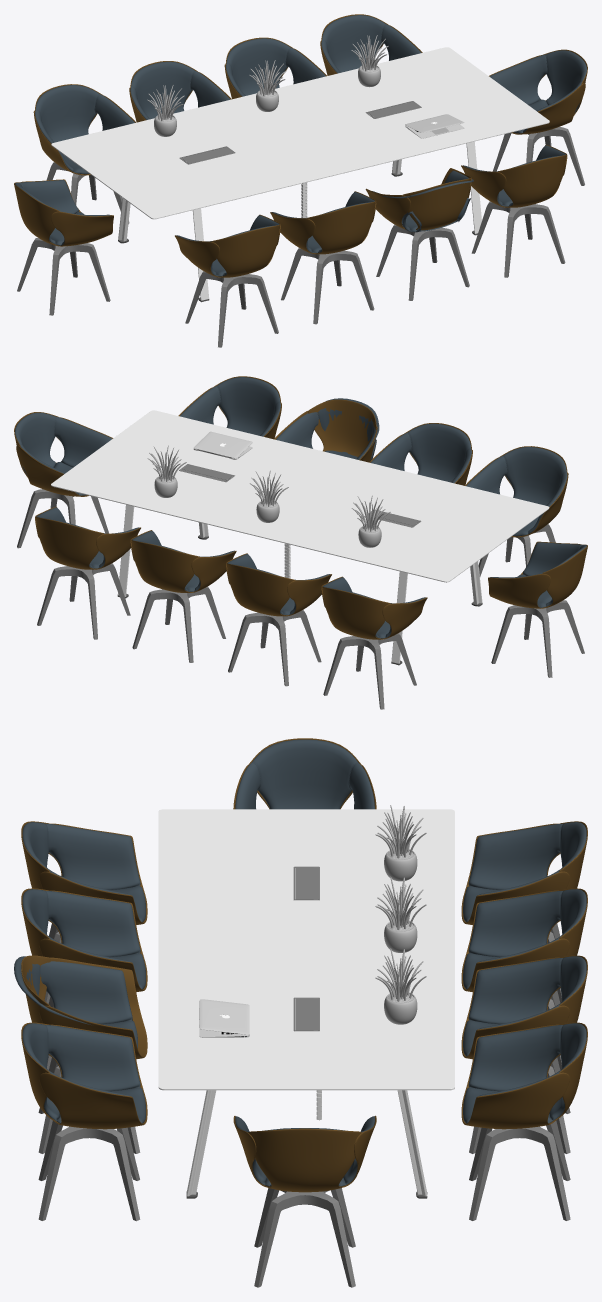
File: dask.glb
3 renders of one model, top to bottom at view 1: azimuth 30°, elevation 25°; view 2: azimuth 150°, elevation 25°; view 3: azimuth 270°, elevation 25°, orthographic. The views are drawn at different scales.
Parts seen in each view (by area): view 1: 3d66-Editable_mesh-21039191-184; view 2: 3d66-Editable_mesh-21039191-184; view 3: 3d66-Editable_mesh-21039191-184.
Boxes of the visible parts, x1,y1,x2,y2 form: 3d66-Editable_mesh-21039191-184: [14, 14, 587, 347]; 3d66-Editable_mesh-21039191-184: [14, 376, 587, 709]; 3d66-Editable_mesh-21039191-184: [14, 738, 587, 1287].
Bounding box in the file's own units: 4.18 × 1.15 × 2.59.
